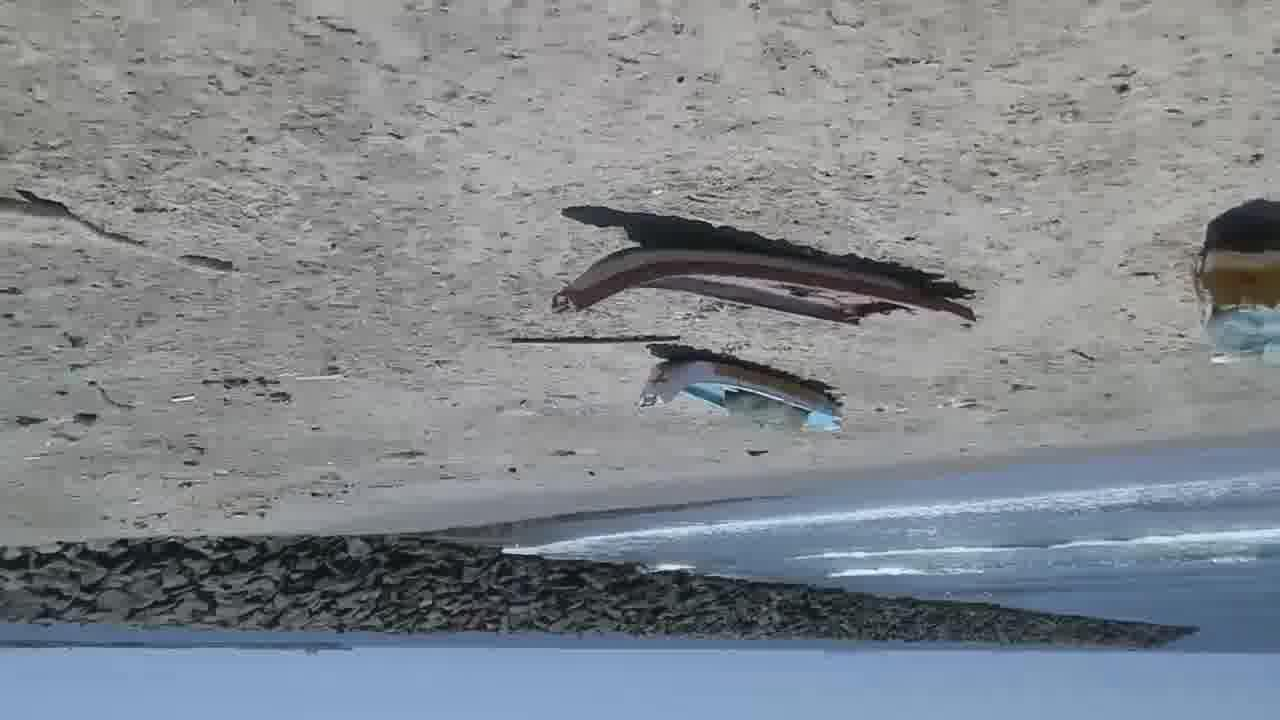large collection of objects: (546, 236, 976, 332), (640, 357, 846, 438), (1194, 237, 1279, 371)
obj: (1, 196, 241, 288), (6, 413, 46, 431), (294, 369, 342, 381), (68, 411, 98, 430), (164, 389, 198, 405)
sand/background: (1, 445, 1279, 719)
